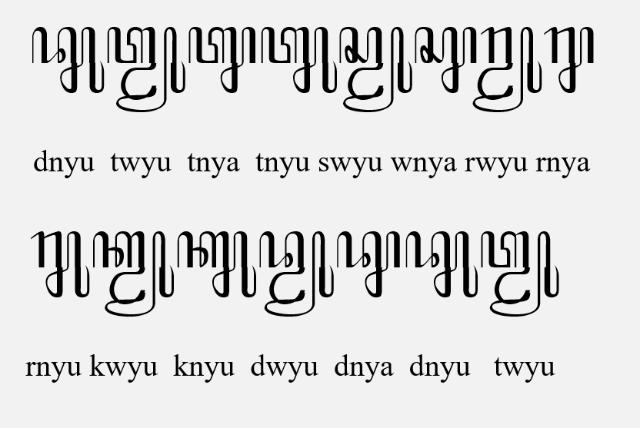dny: (336, 230, 402, 298)
dnyu: (31, 24, 105, 93), (404, 230, 478, 298)
dwyu: (260, 230, 334, 318)
knyu: (177, 231, 257, 299)
kwyu: (92, 230, 176, 318)
rny: (544, 26, 594, 93)
rnyu: (30, 230, 90, 298)
rwyu: (472, 25, 542, 113)
sny: (414, 26, 476, 94)
swyu: (338, 26, 414, 114)
tny: (188, 25, 256, 94)
tnyu: (260, 27, 338, 95)
twyu: (106, 25, 186, 113), (480, 230, 560, 318)
